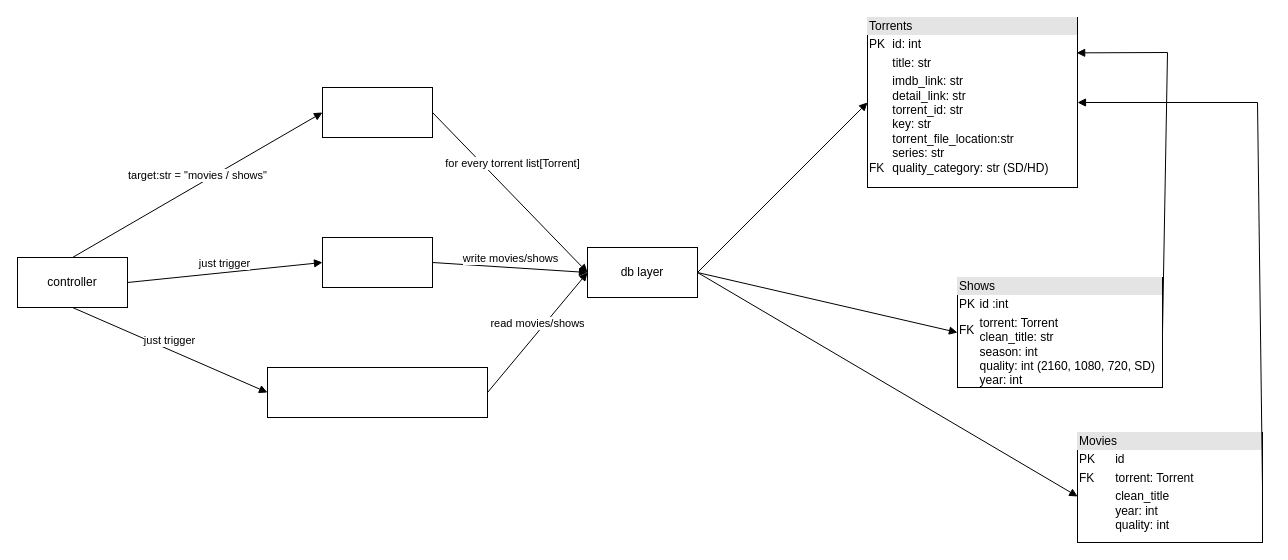
This 1288x560 diagram has some shape labels left out. Here are the shapes that lost their labels. From the top down, the centre of each, then its label:
pixel 377 112: parser
pixel 377 262: data_extractor
pixel 377 392: jellyfin_layer - update movies / shows
